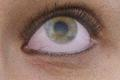eye: (45, 16, 78, 43)
